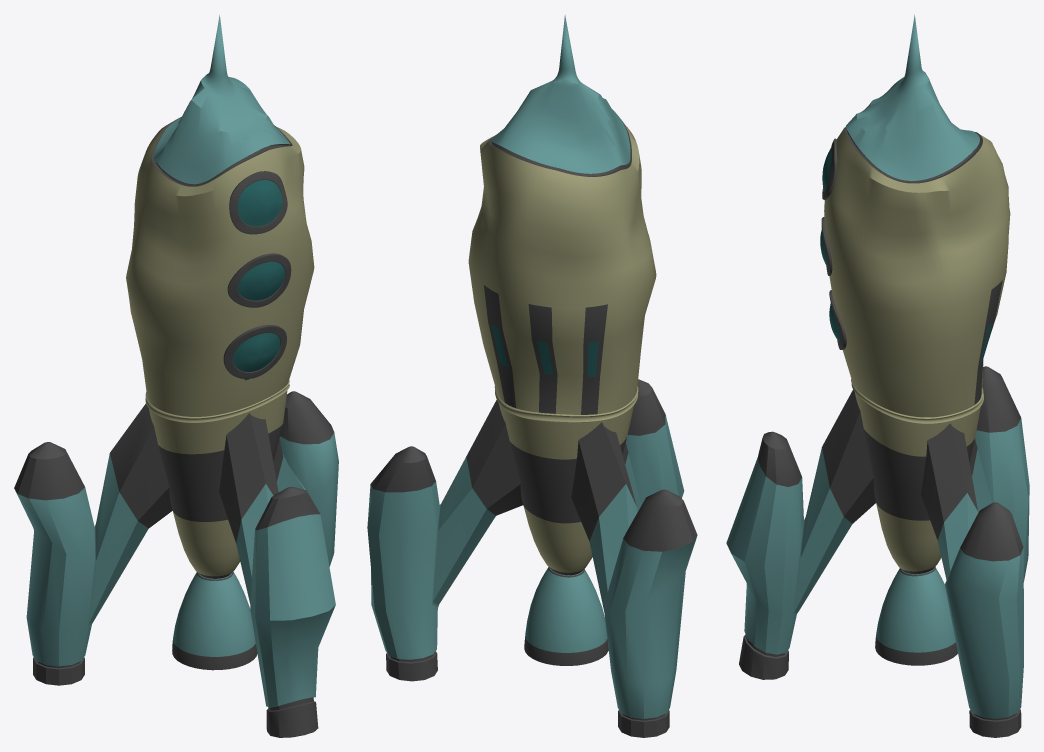
The picture shows the model from 3 angles, left to right: view 1: azimuth 30°, elevation 25°; view 2: azimuth 150°, elevation 25°; view 3: azimuth 270°, elevation 25°; orthographic projection.
Visible parts, largest first — view 1: R3; view 2: R3; view 3: R3.
Part boxes in pixels (x1=…): R3: x1=14, y1=15, x2=338, y2=737; R3: x1=367, y1=15, x2=697, y2=737; R3: x1=726, y1=14, x2=1029, y2=737.
Bounding box in the file's own units: 211 × 417 × 174.
